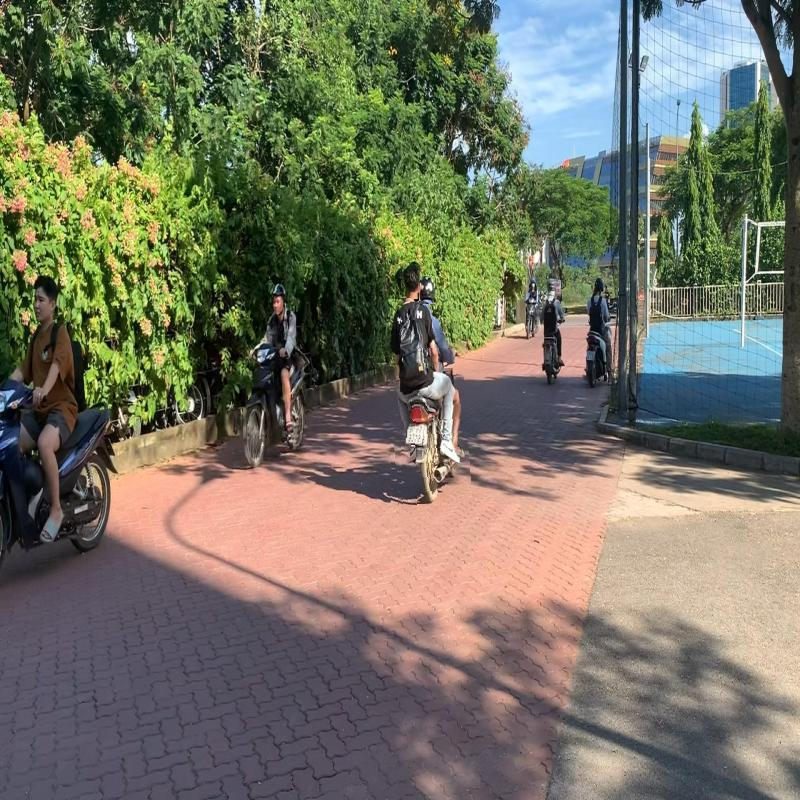helmet: (419, 276, 437, 304)
licenseplate: (406, 422, 424, 446)
motorcyclist: (386, 261, 469, 506)
nohelmet: (400, 262, 424, 300)
